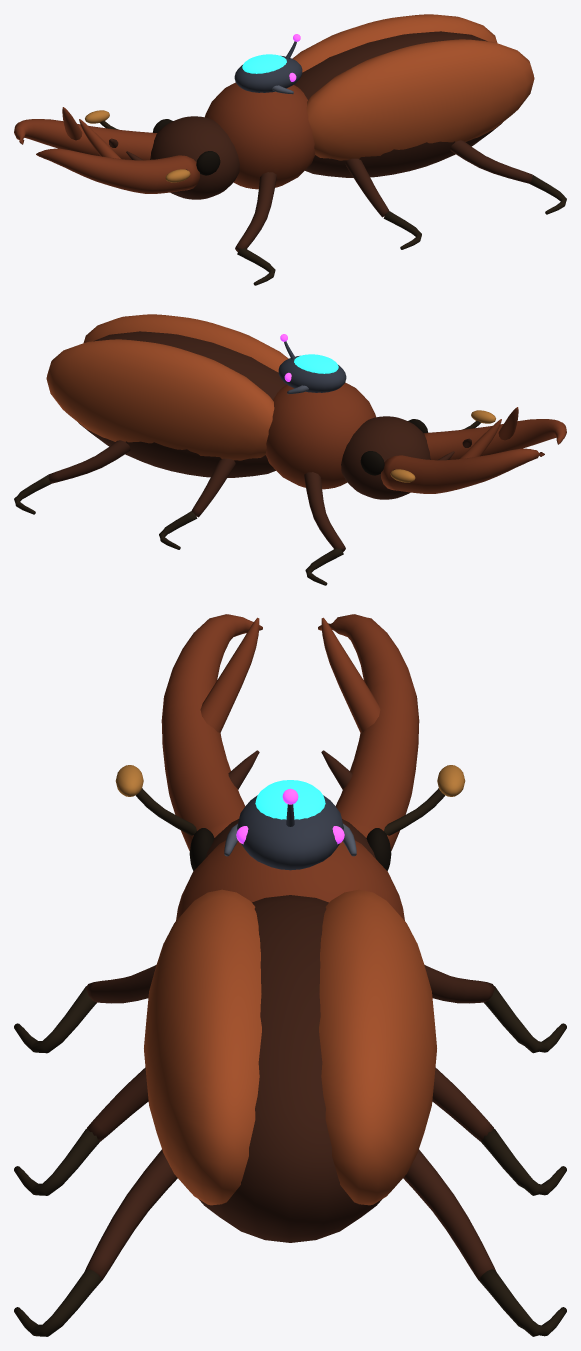
Rendered from controlled_stag_beetle.glb.
3 renders of one model, top to bottom at view 1: azimuth 30°, elevation 25°; view 2: azimuth 150°, elevation 25°; view 3: azimuth 270°, elevation 25°, orthographic. The views are drawn at different scales.
Visible parts, largest first — view 1: Elytron_L, Thorax, Abdomen, Mandible_L, Head, Elytron_R, Mandible_R, ControlShell, Upper, Upper.002, Upper.001, CyanLens (+6 smaller); view 2: Elytron_R, Thorax, Abdomen, Mandible_R, Head, Elytron_L, Mandible_L, ControlShell, Upper.003, Upper.005, Upper.004, CyanLens (+6 smaller); view 3: Elytron_L, Elytron_R, Abdomen, Mandible_L, Mandible_R, Thorax, ControlShell, Upper.005, Upper.002, MandibleFork, MandibleFork.001, CyanLens (+10 smaller).
Part boxes in pixels (x1,y1,x2,y2): Elytron_L: (306,39,534,160); Thorax: (205,82,315,189); Abdomen: (294,31,502,177); Mandible_L: (36,148,199,193); Head: (150,116,239,199); Elytron_R: (292,14,497,72); Mandible_R: (14,119,157,160); ControlShell: (234,56,302,92); Upper: (235,172,276,251); Upper.002: (450,140,532,183); Upper.001: (345,158,389,217); CyanLens: (242,54,286,73); Elytron_R: (46,339,274,460); Thorax: (265,382,375,489); Abdomen: (78,331,286,477); Mandible_R: (381,448,544,493); Head: (341,416,430,499); Elytron_L: (83,314,288,372); Mandible_L: (423,419,566,460); ControlShell: (278,356,346,392); Upper.003: (304,472,345,551); Upper.005: (48,440,130,483); Upper.004: (191,458,235,517); CyanLens: (294,354,338,373); Elytron_L: (144,889,261,1205); Elytron_R: (319,889,436,1205); Abdomen: (199,895,381,1242); Mandible_L: (161,614,262,851); Mandible_R: (318,614,419,851); Thorax: (176,840,404,920); ControlShell: (237,795,343,870); Upper.005: (403,1149,496,1280); Upper.002: (84,1149,177,1280); MandibleFork: (200,617,259,733); MandibleFork.001: (321,617,380,733); CyanLens: (255,780,325,819).
Bounding box in the file's own units: 2.8 × 0.9602 × 1.38.
